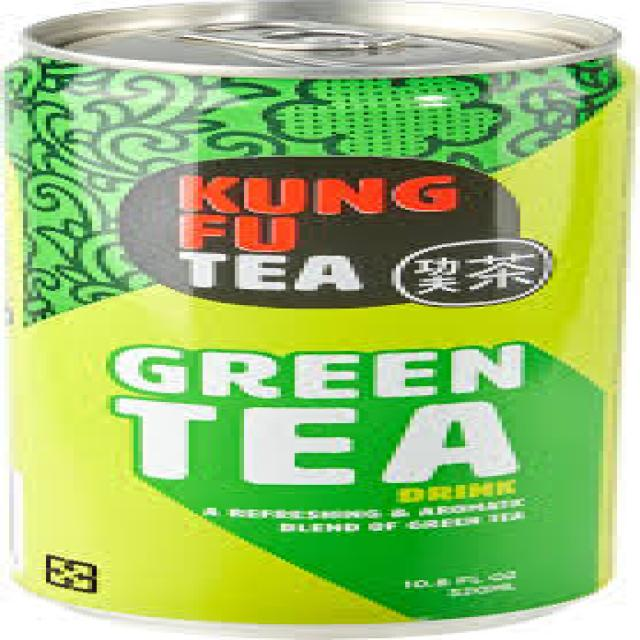Cans: (9, 3, 631, 633)
